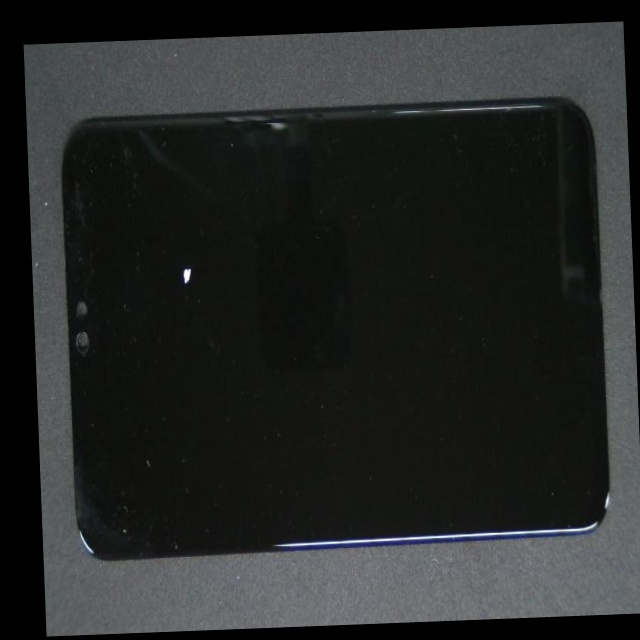stain: (122, 140, 269, 361)
